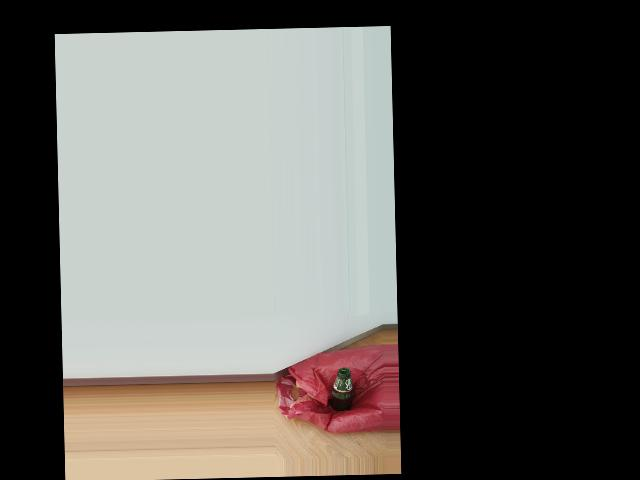beer: (329, 368, 355, 411)
